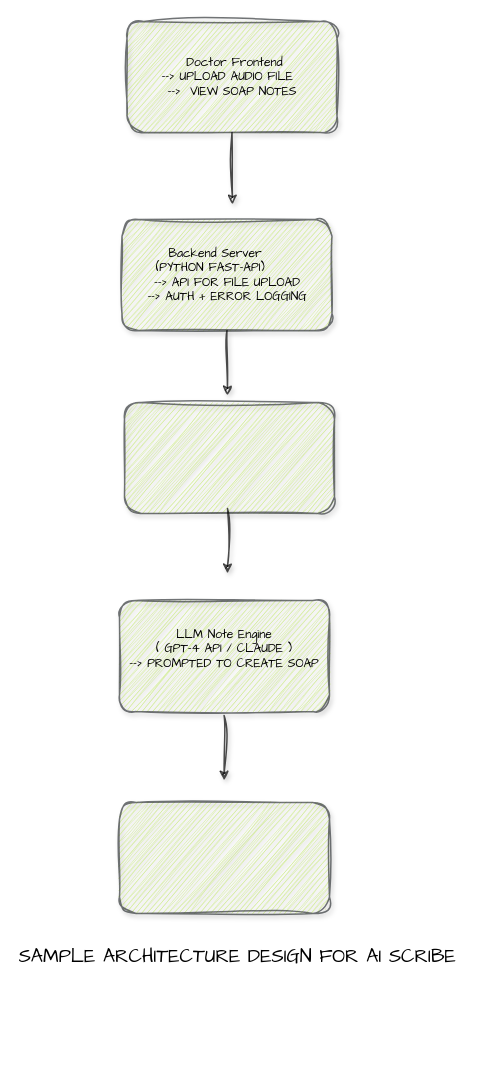
Image size: 482x1080. Some labels were removed from this diagram. Here are the shapes that lost their labels. From the top down, the centre of each, then its label:
At pixel 230 459: "Transcription API ( WHISPER / GOOGLE STT )".
At pixel 225 859: "OutPut Storage (DB) --> NOTES, TRANSCRIPTION --> PATIENT NAME + DATA".
